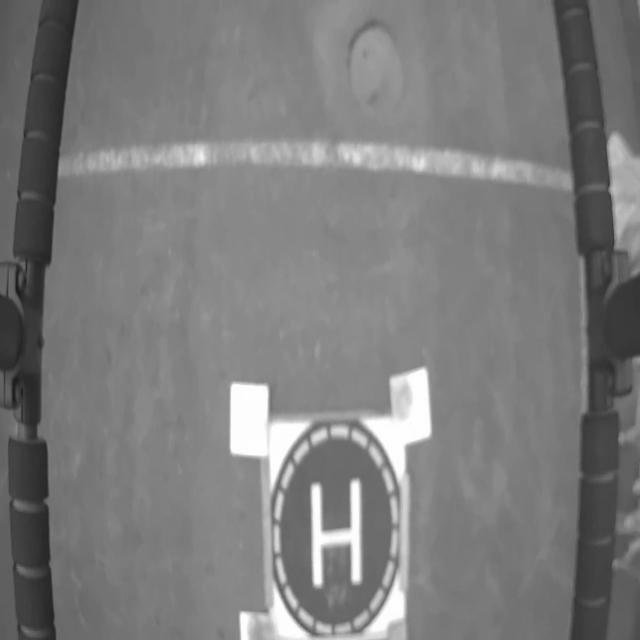Helipad: (310, 478, 361, 589)
